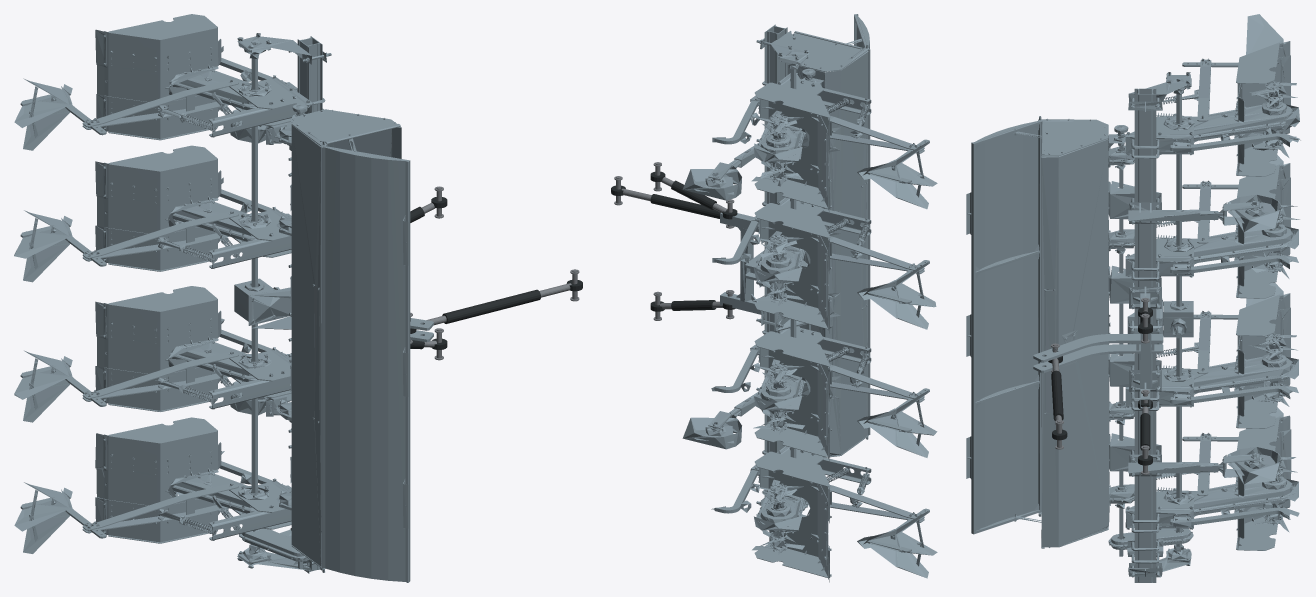
Rendered from implement_inter_row_milling_cutter_visual.obj.
3 views of the same model, side by side, from view 1: azimuth 30°, elevation 25°; view 2: azimuth 150°, elevation 25°; view 3: azimuth 270°, elevation 25° (orthographic). The views are drawn at different scales.
Visible parts, largest first — view 1: solid_2715, solid_2696, solid_1089, solid_2375, solid_444, solid_1732, solid_1048, solid_2334, solid_403, solid_393, solid_2698, solid_2324 (+38 smaller); view 2: solid_2696, solid_2324, solid_393, solid_1038, solid_2698, solid_1681, solid_443, solid_2374, solid_1731, solid_1088, solid_2986, solid_2868 (+49 smaller); view 3: solid_2696, solid_2715, solid_2718, solid_0, solid_2698, solid_719, solid_74, solid_2005, solid_3, solid_4, solid_2634, solid_1362 (+43 smaller).
Part boxes in pixels (left/top/right/bottom): solid_2715: left=321, top=147, right=408, bottom=582; solid_2696: left=291, top=125, right=401, bottom=566; solid_1089: left=104, top=300, right=217, bottom=346; solid_2375: left=104, top=159, right=217, bottom=206; solid_444: left=104, top=431, right=217, bottom=478; solid_1732: left=104, top=28, right=217, bottom=74; solid_1048: left=104, top=367, right=217, bottom=410; solid_2334: left=104, top=227, right=217, bottom=270; solid_403: left=104, top=498, right=217, bottom=542; solid_393: left=104, top=442, right=221, bottom=516; solid_2698: left=291, top=109, right=400, bottom=146; solid_2324: left=104, top=170, right=221, bottom=244; solid_2696: left=787, top=51, right=868, bottom=455; solid_2324: left=760, top=219, right=828, bottom=317; solid_393: left=760, top=468, right=828, bottom=565; solid_1038: left=760, top=347, right=828, bottom=445; solid_2698: left=792, top=31, right=868, bottom=71; solid_1681: left=760, top=99, right=828, bottom=196; solid_443: left=754, top=451, right=830, bottom=486; solid_2374: left=754, top=203, right=830, bottom=237; solid_1731: left=754, top=82, right=830, bottom=117; solid_1088: left=754, top=331, right=830, bottom=366; solid_2986: left=682, top=417, right=741, bottom=449; solid_2868: left=682, top=169, right=741, bottom=200; solid_2696: left=1041, top=138, right=1109, bottom=546; solid_2715: left=971, top=120, right=1038, bottom=533; solid_2718: left=972, top=121, right=1041, bottom=534; solid_0: left=1138, top=88, right=1152, bottom=582; solid_2698: left=1041, top=119, right=1108, bottom=156; solid_719: left=1170, top=354, right=1297, bottom=390; solid_74: left=1170, top=476, right=1296, bottom=512; solid_2005: left=1170, top=224, right=1296, bottom=259; solid_3: left=1152, top=93, right=1156, bottom=582; solid_4: left=1134, top=93, right=1138, bottom=582; solid_2634: left=1176, top=94, right=1181, bottom=550; solid_1362: left=1172, top=102, right=1292, bottom=137.
Bounding box in the file's own units: 2.75 × 3 × 1.87.
